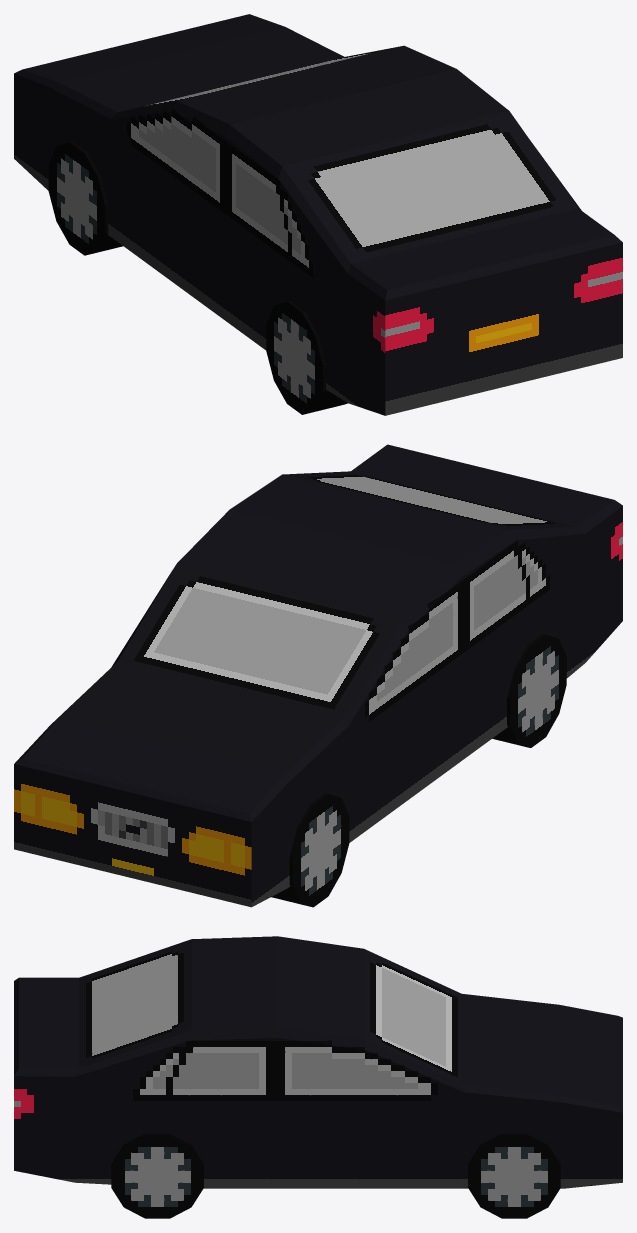
File: volvo s40 1995.gltf
3 views of the same model, one above another, from view 1: azimuth 30°, elevation 25°; view 2: azimuth 150°, elevation 25°; view 3: azimuth 270°, elevation 25° (orthographic). The views are drawn at different scales.
Parts seen in each view (by area): view 1: body, back_wheel_left, front_wheel_left; view 2: body, front_wheel_left, back_wheel_left; view 3: body, front_wheel_right, back_wheel_right.
Part boxes in pixels (bbox=[...]): body: bbox=[14, 14, 622, 415]; back_wheel_left: bbox=[266, 301, 347, 414]; front_wheel_left: bbox=[48, 141, 122, 255]; body: bbox=[14, 444, 622, 907]; front_wheel_left: bbox=[271, 793, 349, 907]; back_wheel_left: bbox=[492, 634, 566, 747]; body: bbox=[14, 936, 622, 1188]; front_wheel_right: bbox=[468, 1133, 560, 1218]; back_wheel_right: bbox=[111, 1133, 203, 1218].
Bounding box in the file's own units: 2.18 × 1.96 × 5.75.
Materials: 2 (2 with a texture image).
